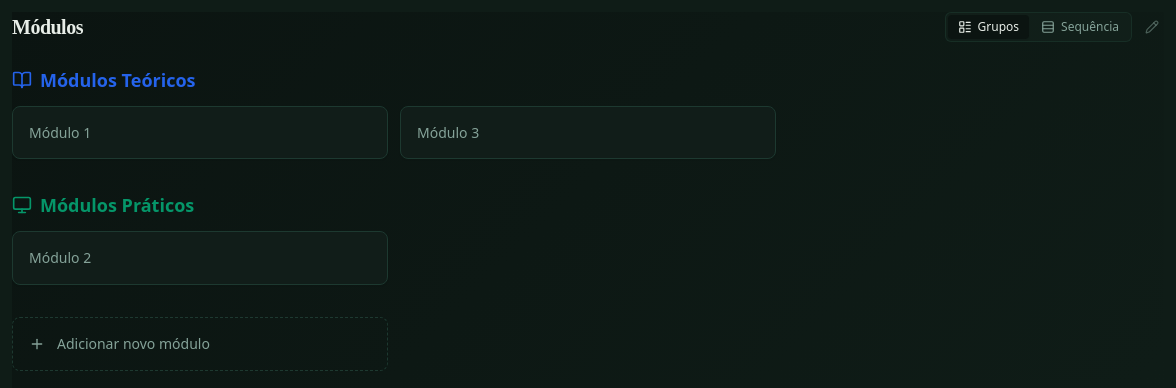
it: in edit mode › goes back to links on discard
The image size is (1176, 388).
Click the button named "Reordenar módulos" at (1152, 27), box [1140,15,1164,39]
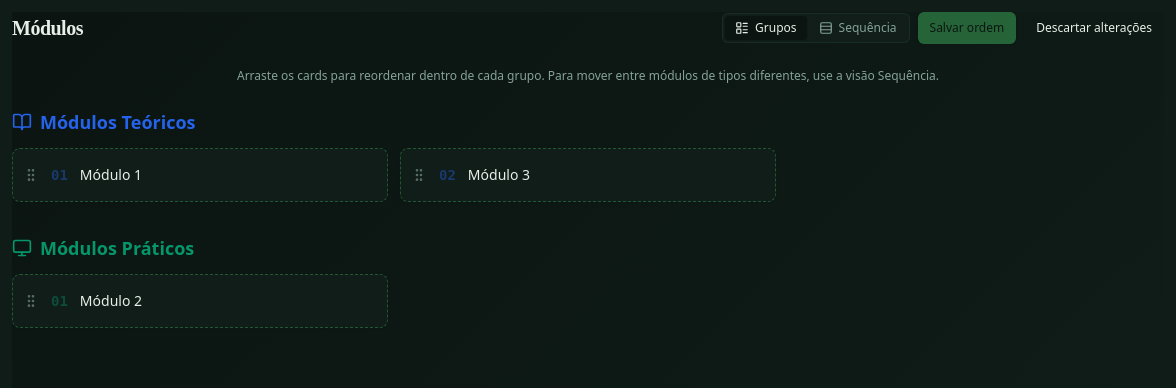
Click the button "Descartar alterações" at (1094, 28), box [1024,12,1164,44]
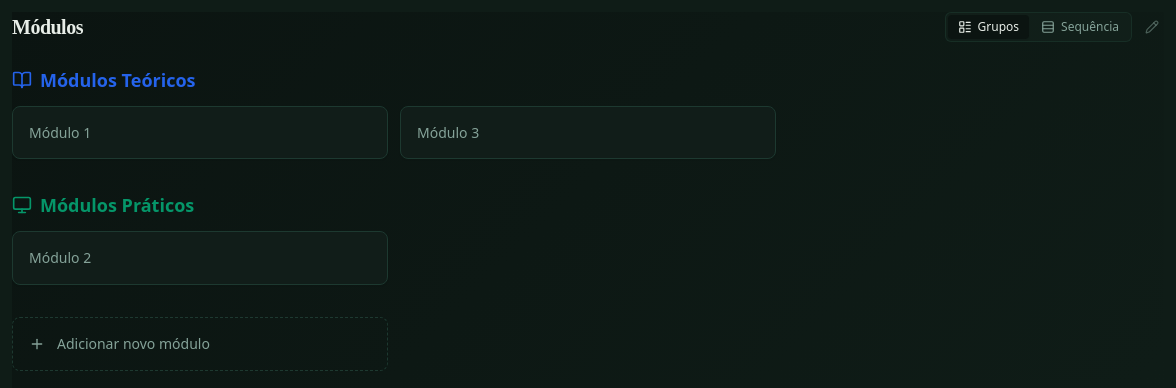
Check: the number of links is 3, box [12,106,388,159]; [400,106,776,159]; [12,231,388,285]
Check: the button named "Reordenar módulos" is shown, box [1140,15,1164,39]
